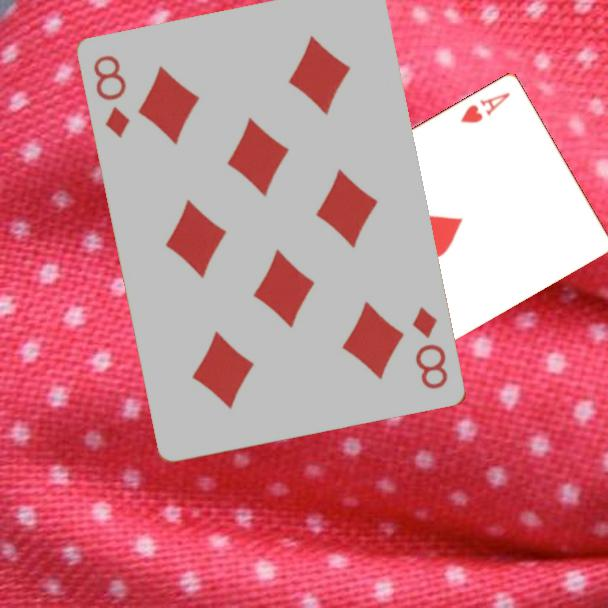d08: (90, 52, 134, 142), (409, 303, 451, 393)
h01: (457, 88, 513, 126)
